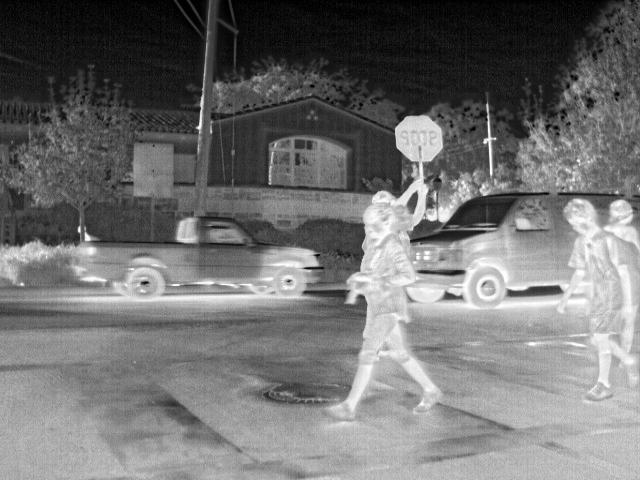car: (72, 215, 325, 300), (409, 190, 559, 308)
person: (345, 202, 412, 422), (560, 198, 612, 405), (606, 197, 640, 247), (372, 188, 400, 202)
